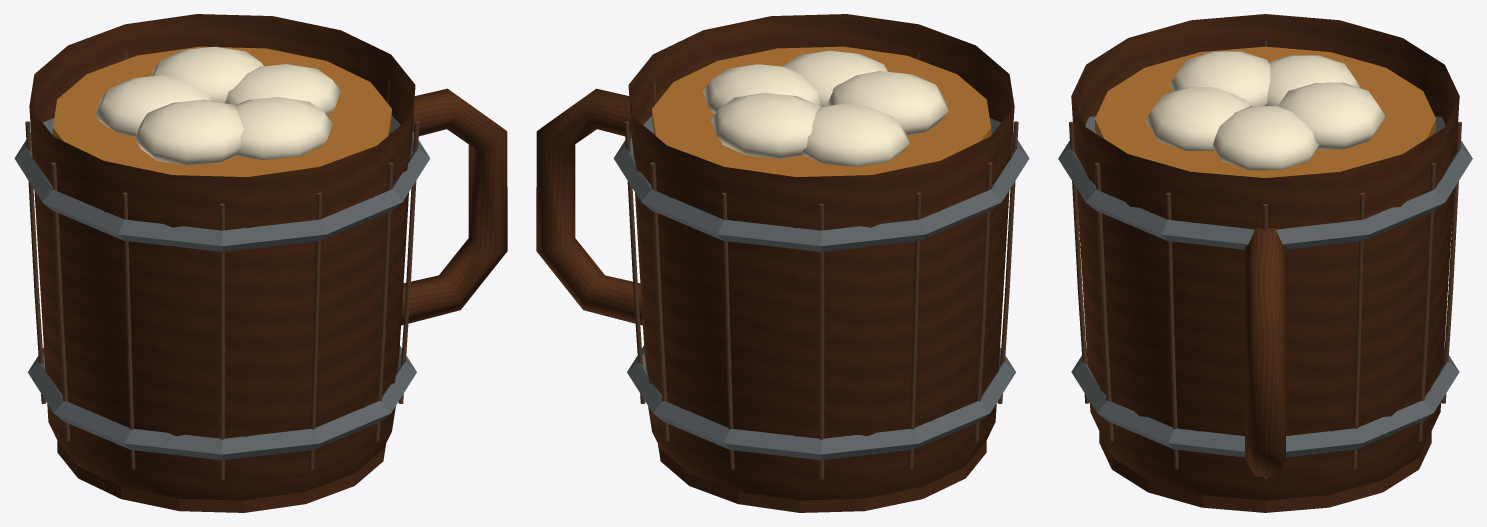
Rendered from tankard_oakbeer.fbx.
3 renders of one model, left to right at view 1: azimuth 30°, elevation 25°; view 2: azimuth 150°, elevation 25°; view 3: azimuth 270°, elevation 25°, orthographic.
Visible parts, largest first — view 1: Tankard • tapered oak wall, Tankard • amber ale, Tankard • curved oak handle, Tankard • upper iron hoop, Tankard • lower iron hoop, Tankard • foam crown 03, Tankard • foam crown 04, Tankard • bottom, Tankard • foam crown 02, Tankard • foam crown 01, Tankard • foam crown 00, Tankard • stave seam 10 (+6 smaller); view 2: Tankard • tapered oak wall, Tankard • amber ale, Tankard • curved oak handle, Tankard • upper iron hoop, Tankard • lower iron hoop, Tankard • foam crown 01, Tankard • foam crown 02, Tankard • foam crown 03, Tankard • bottom, Tankard • foam crown 00, Tankard • foam crown 04, Tankard • stave seam 02 (+6 smaller); view 3: Tankard • tapered oak wall, Tankard • amber ale, Tankard • curved oak handle, Tankard • upper iron hoop, Tankard • lower iron hoop, Tankard • foam crown 00, Tankard • foam crown 01, Tankard • foam crown 04, Tankard • bottom, Tankard • foam crown 03, Tankard • foam crown 02, Tankard • stave seam 02 (+5 smaller).
Part boxes in pixels (x1,y1,x2,y2): Tankard • tapered oak wall: (29, 14, 415, 500); Tankard • amber ale: (52, 46, 391, 176); Tankard • curved oak handle: (389, 88, 507, 325); Tankard • upper iron hoop: (14, 116, 430, 251); Tankard • lower iron hoop: (28, 346, 416, 460); Tankard • foam crown 03: (134, 99, 243, 165); Tankard • foam crown 04: (234, 97, 332, 159); Tankard • bottom: (57, 440, 385, 512); Tankard • foam crown 02: (95, 75, 211, 136); Tankard • foam crown 01: (151, 46, 263, 102); Tankard • foam crown 00: (225, 64, 340, 114); Tankard • stave seam 10: (374, 162, 393, 441); Tankard • tapered oak wall: (628, 14, 1014, 500); Tankard • amber ale: (652, 46, 991, 176); Tankard • curved oak handle: (536, 88, 654, 325); Tankard • upper iron hoop: (613, 116, 1029, 251); Tankard • lower iron hoop: (627, 346, 1015, 460); Tankard • foam crown 01: (711, 93, 820, 158); Tankard • foam crown 02: (802, 103, 909, 166); Tankard • foam crown 03: (828, 71, 948, 135); Tankard • bottom: (658, 440, 986, 512); Tankard • foam crown 00: (703, 64, 821, 113); Tankard • foam crown 04: (783, 50, 888, 106); Tankard • stave seam 02: (650, 162, 669, 441); Tankard • tapered oak wall: (1071, 14, 1459, 500); Tankard • amber ale: (1095, 46, 1435, 177); Tankard • curved oak handle: (1245, 228, 1285, 476); Tankard • upper iron hoop: (1058, 116, 1472, 249); Tankard • lower iron hoop: (1071, 348, 1459, 457); Tankard • foam crown 00: (1212, 106, 1318, 170); Tankard • foam crown 01: (1278, 82, 1385, 149); Tankard • foam crown 04: (1145, 87, 1249, 150); Tankard • bottom: (1099, 431, 1431, 512); Tankard • foam crown 03: (1169, 51, 1270, 105); Tankard • foam crown 02: (1265, 55, 1360, 105); Tankard • stave seam 02: (1417, 162, 1436, 441).
Size of the model in its own units: 0.3602 by 0.269 by 0.282.
5 materials, 1 textured.
